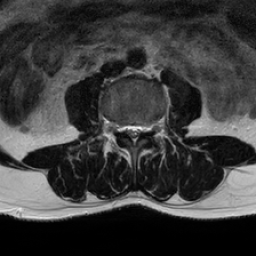CCS_normal: (130, 118, 137, 152)
LFS_normal: (144, 118, 152, 138)
LLS_stenosis: (137, 118, 144, 141)
RFS_normal: (116, 117, 123, 139)
RLS_normal: (123, 118, 130, 139)
